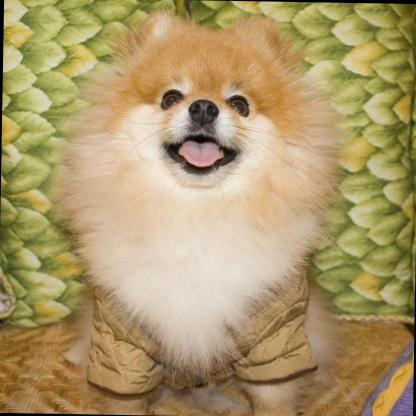Pomeranian: (47, 6, 348, 416)
